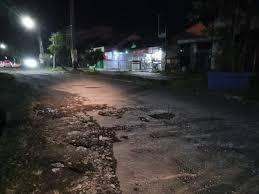Pothole: (118, 104, 222, 130)
